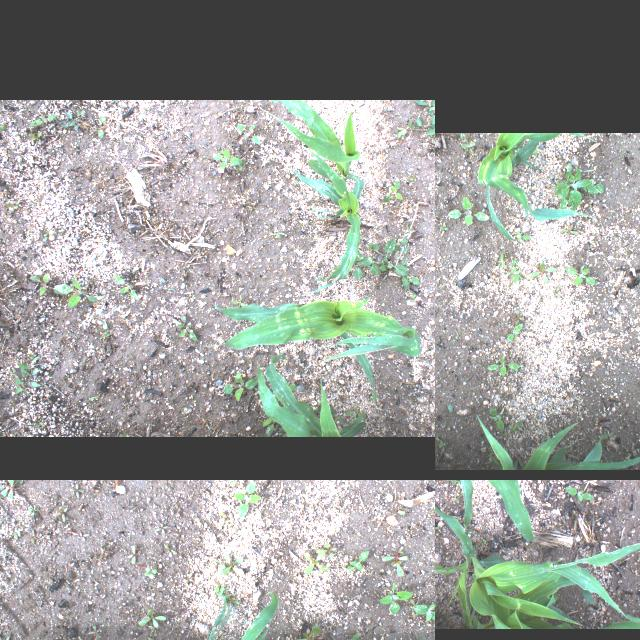crop: (435, 501, 640, 628), (218, 302, 424, 398), (264, 101, 368, 291), (478, 132, 596, 242), (473, 412, 640, 469), (250, 358, 366, 434), (173, 590, 335, 640), (454, 480, 577, 541), (600, 621, 640, 628)
weed: (348, 237, 422, 301), (28, 270, 106, 308), (554, 160, 604, 208), (392, 102, 435, 155), (26, 109, 84, 138), (215, 371, 262, 404), (8, 353, 46, 392), (448, 196, 492, 228), (378, 581, 412, 615), (232, 482, 262, 518), (496, 248, 526, 282), (210, 146, 248, 172), (524, 259, 560, 285), (110, 272, 140, 302), (501, 306, 524, 344), (564, 264, 600, 288), (170, 314, 200, 342), (233, 118, 263, 146), (486, 354, 520, 376), (213, 552, 241, 576), (290, 621, 321, 640), (456, 132, 480, 156), (304, 552, 330, 574), (138, 608, 166, 628), (380, 556, 408, 576), (382, 178, 406, 200), (346, 549, 370, 571), (564, 488, 594, 504), (556, 220, 582, 238), (487, 406, 507, 429), (414, 602, 435, 622), (0, 480, 21, 499), (435, 436, 450, 458), (316, 541, 336, 557), (512, 414, 526, 436), (517, 231, 539, 243), (70, 482, 86, 498), (440, 399, 458, 413), (54, 504, 68, 522), (0, 108, 8, 138), (438, 221, 454, 235), (88, 624, 102, 638), (224, 594, 240, 606), (154, 522, 168, 534), (214, 585, 228, 597), (164, 544, 180, 554), (230, 517, 238, 535), (0, 628, 12, 640), (144, 568, 158, 578), (130, 544, 136, 566), (199, 588, 215, 596), (27, 506, 39, 516), (229, 480, 245, 487), (391, 546, 405, 554), (346, 632, 359, 640), (396, 508, 409, 516), (454, 492, 464, 502), (450, 480, 461, 489), (78, 532, 90, 540), (184, 573, 192, 585), (30, 528, 36, 542), (14, 530, 22, 540), (405, 637, 426, 640), (409, 596, 415, 606), (435, 520, 439, 532), (220, 510, 227, 516), (482, 538, 486, 544), (36, 635, 39, 640)
